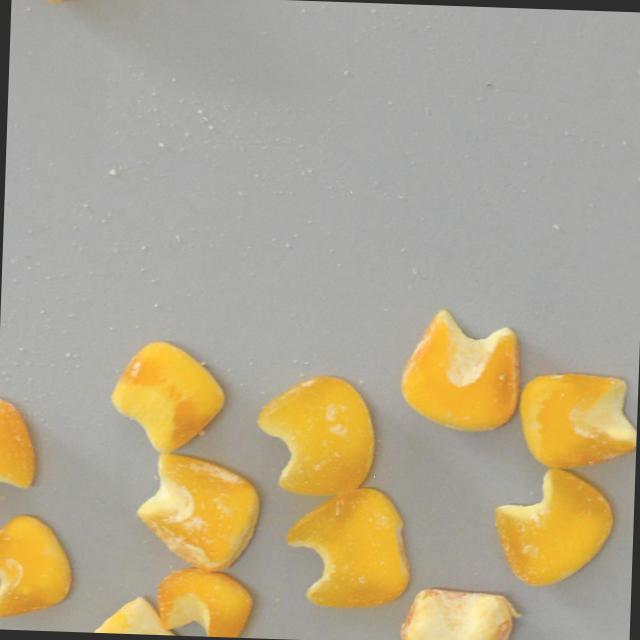dañado: (274, 478, 416, 618), (484, 462, 622, 593), (247, 366, 381, 500), (393, 303, 525, 438), (133, 449, 264, 575), (105, 336, 236, 457), (511, 364, 639, 471), (0, 507, 78, 623), (151, 565, 255, 638), (394, 584, 525, 640), (0, 391, 43, 521), (80, 591, 193, 636), (11, 0, 111, 9)
